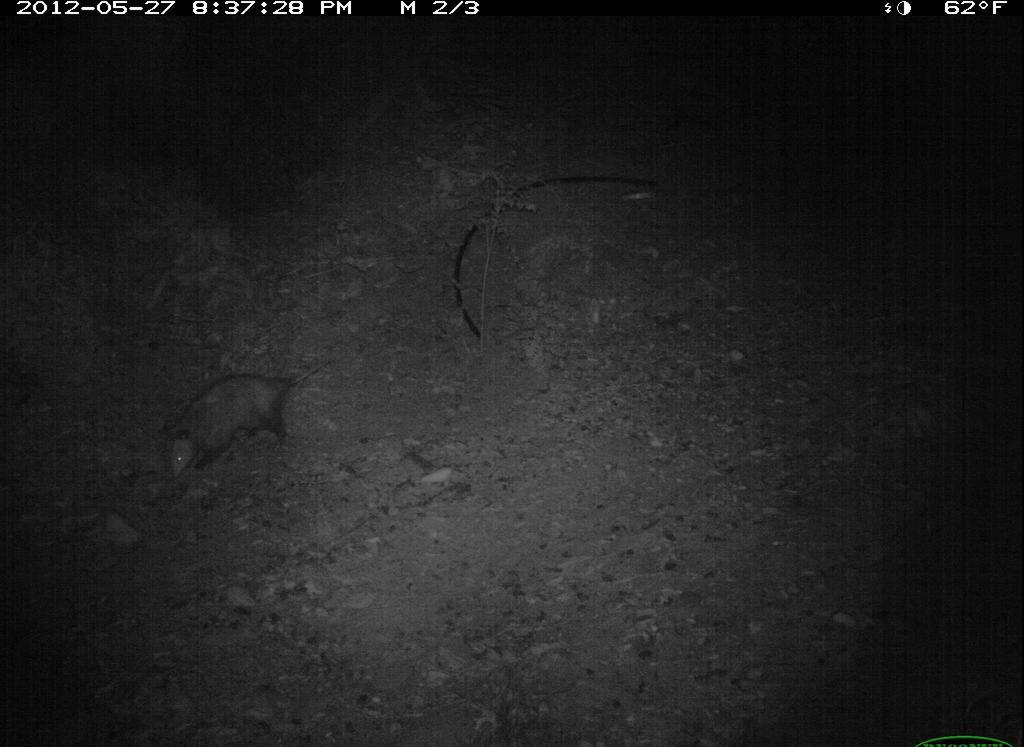opossum: (162, 351, 332, 492)
